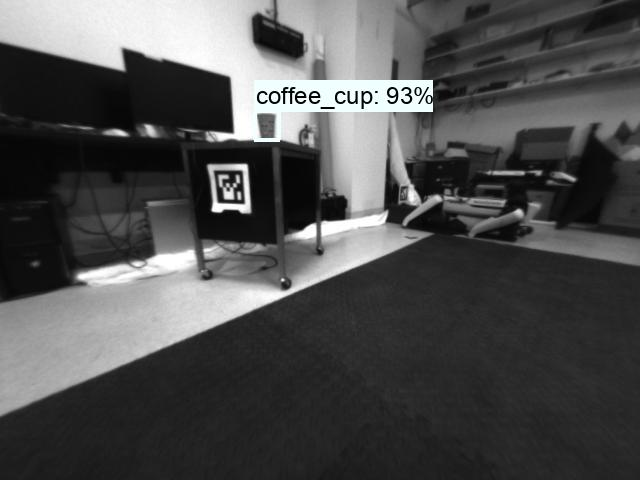coffee_cup: (255, 111, 278, 139)
